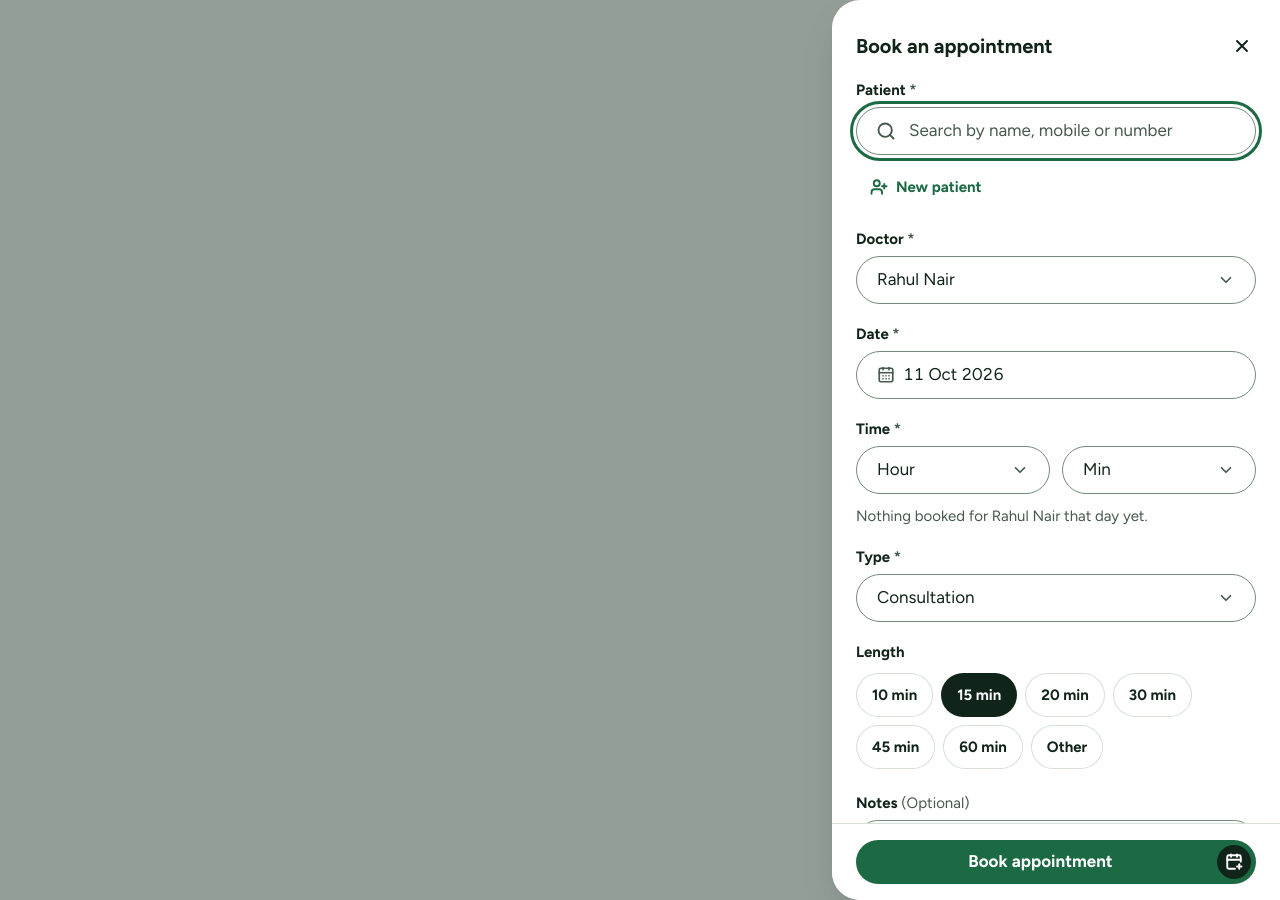
BookingSheet (plan §11.1; D144 – D151) › asks for what is missing, in place, and lets go of it once given
Click the button "Book appointment" at (1056, 862), box [856,840,1256,884]
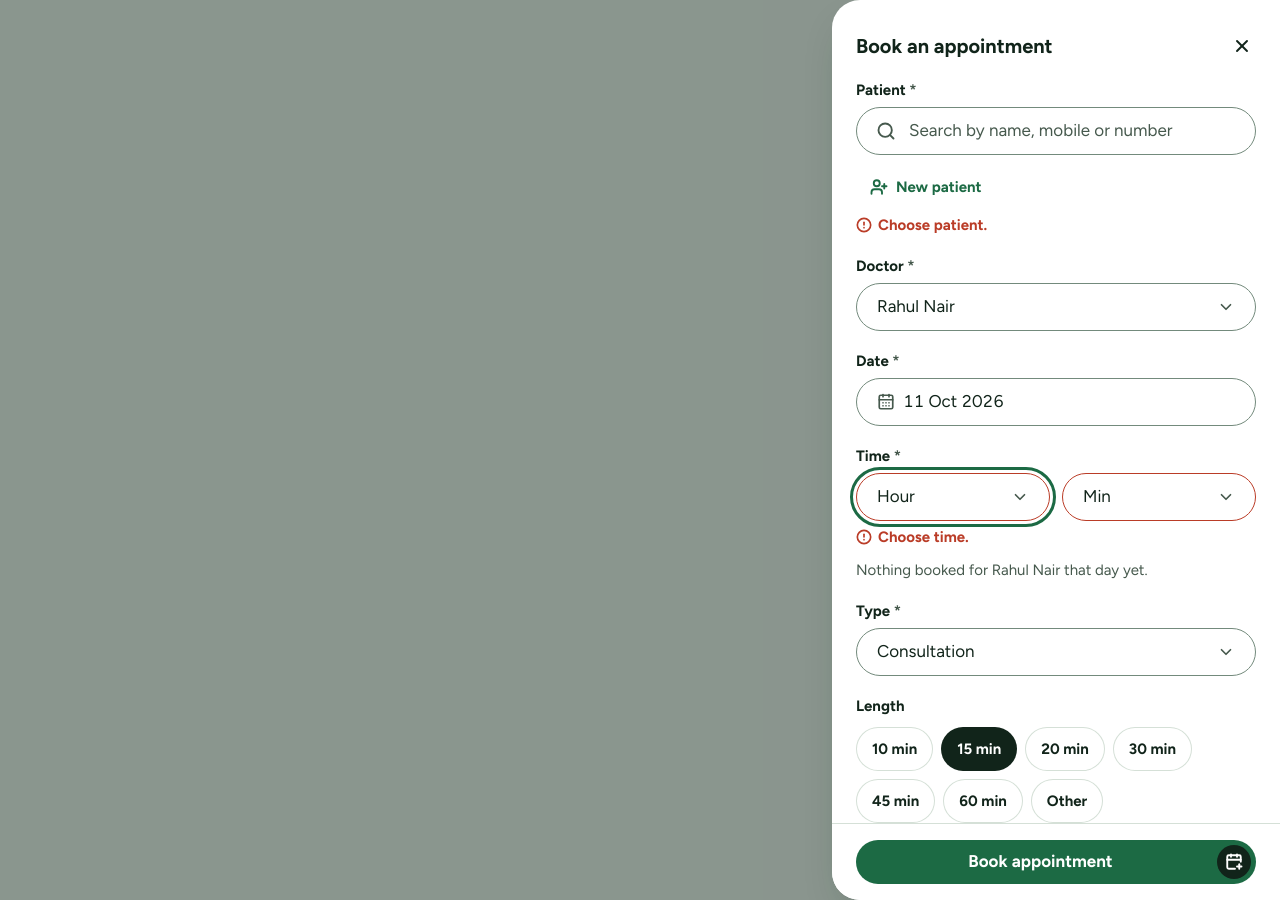
Expected: the text "Choose patient." is shown, [856,216,987,234]
Expected: the text "Choose time." is shown, [856,528,969,546]
Type "roh" into the search field at (1056, 131), box [856,107,1256,155]
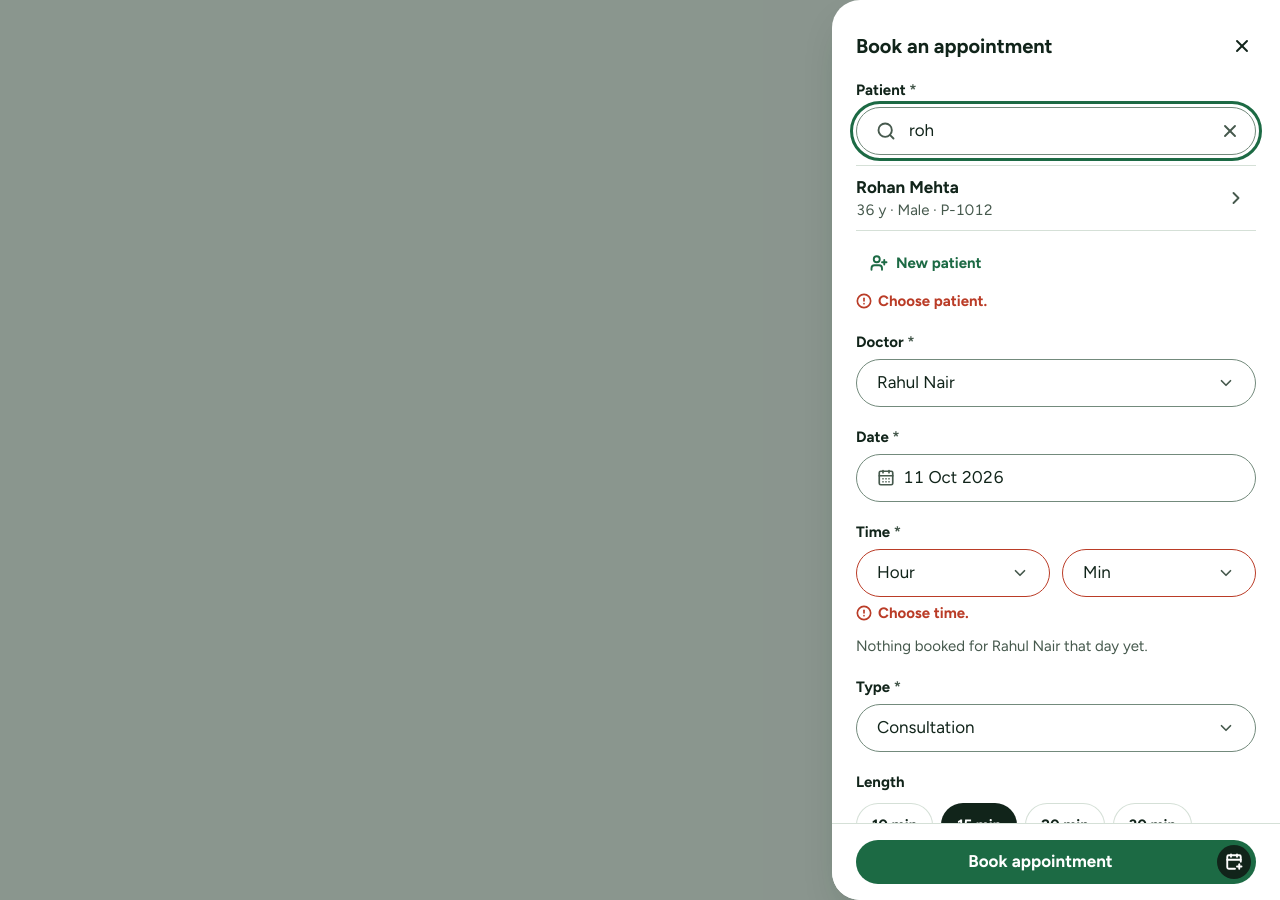
Click the button "Rohan Mehta" at (907, 187), box [856,175,1214,200]
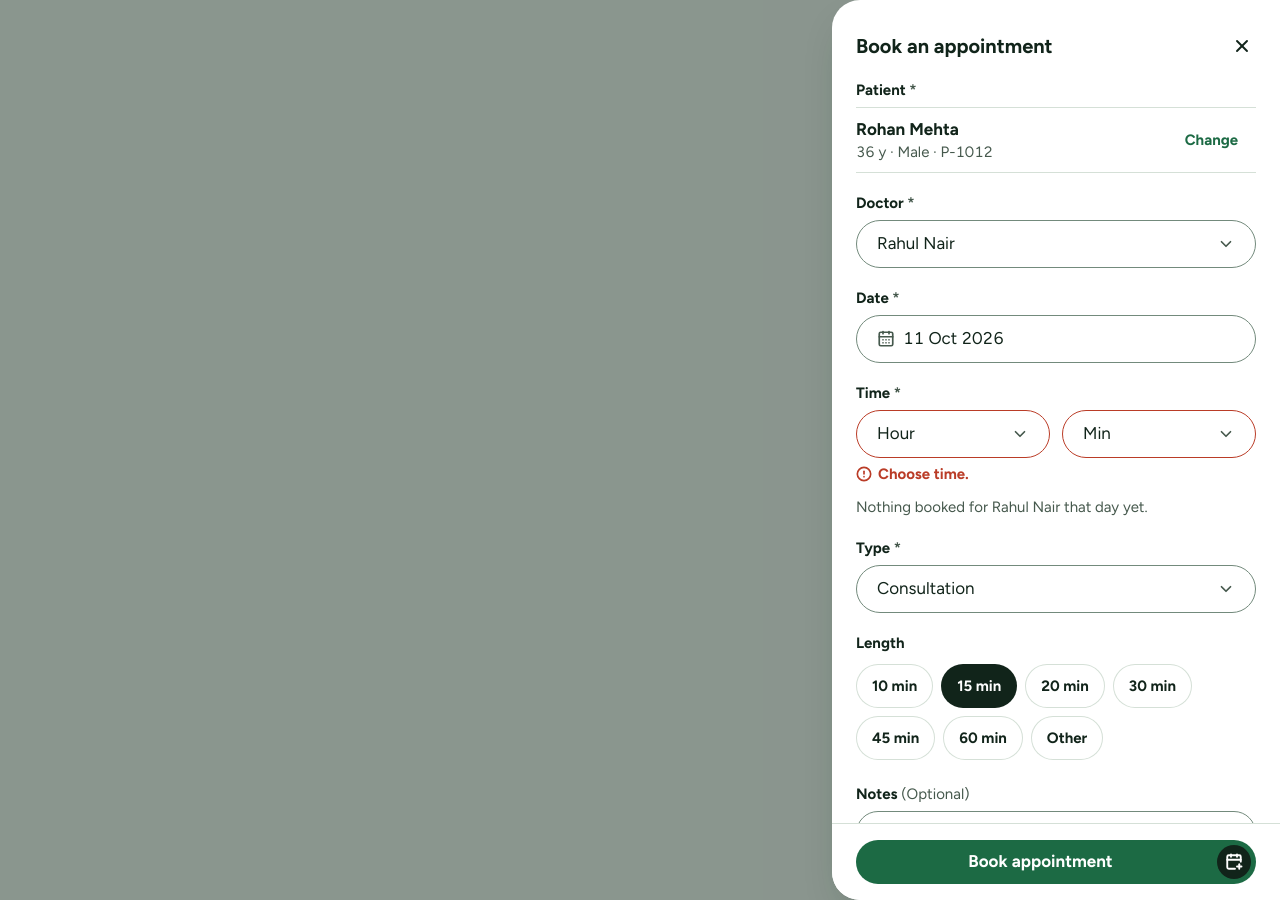
Expected: the text "Choose patient." is gone
